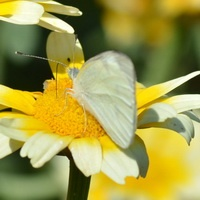insect: (71, 51, 136, 147)
